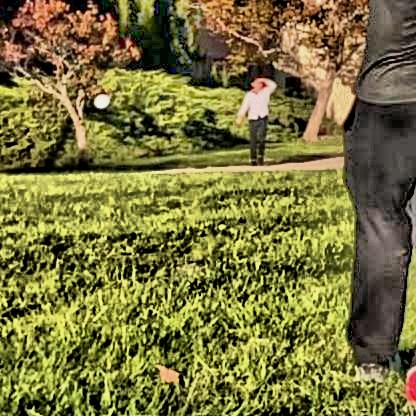golfball: (90, 90, 107, 107)
